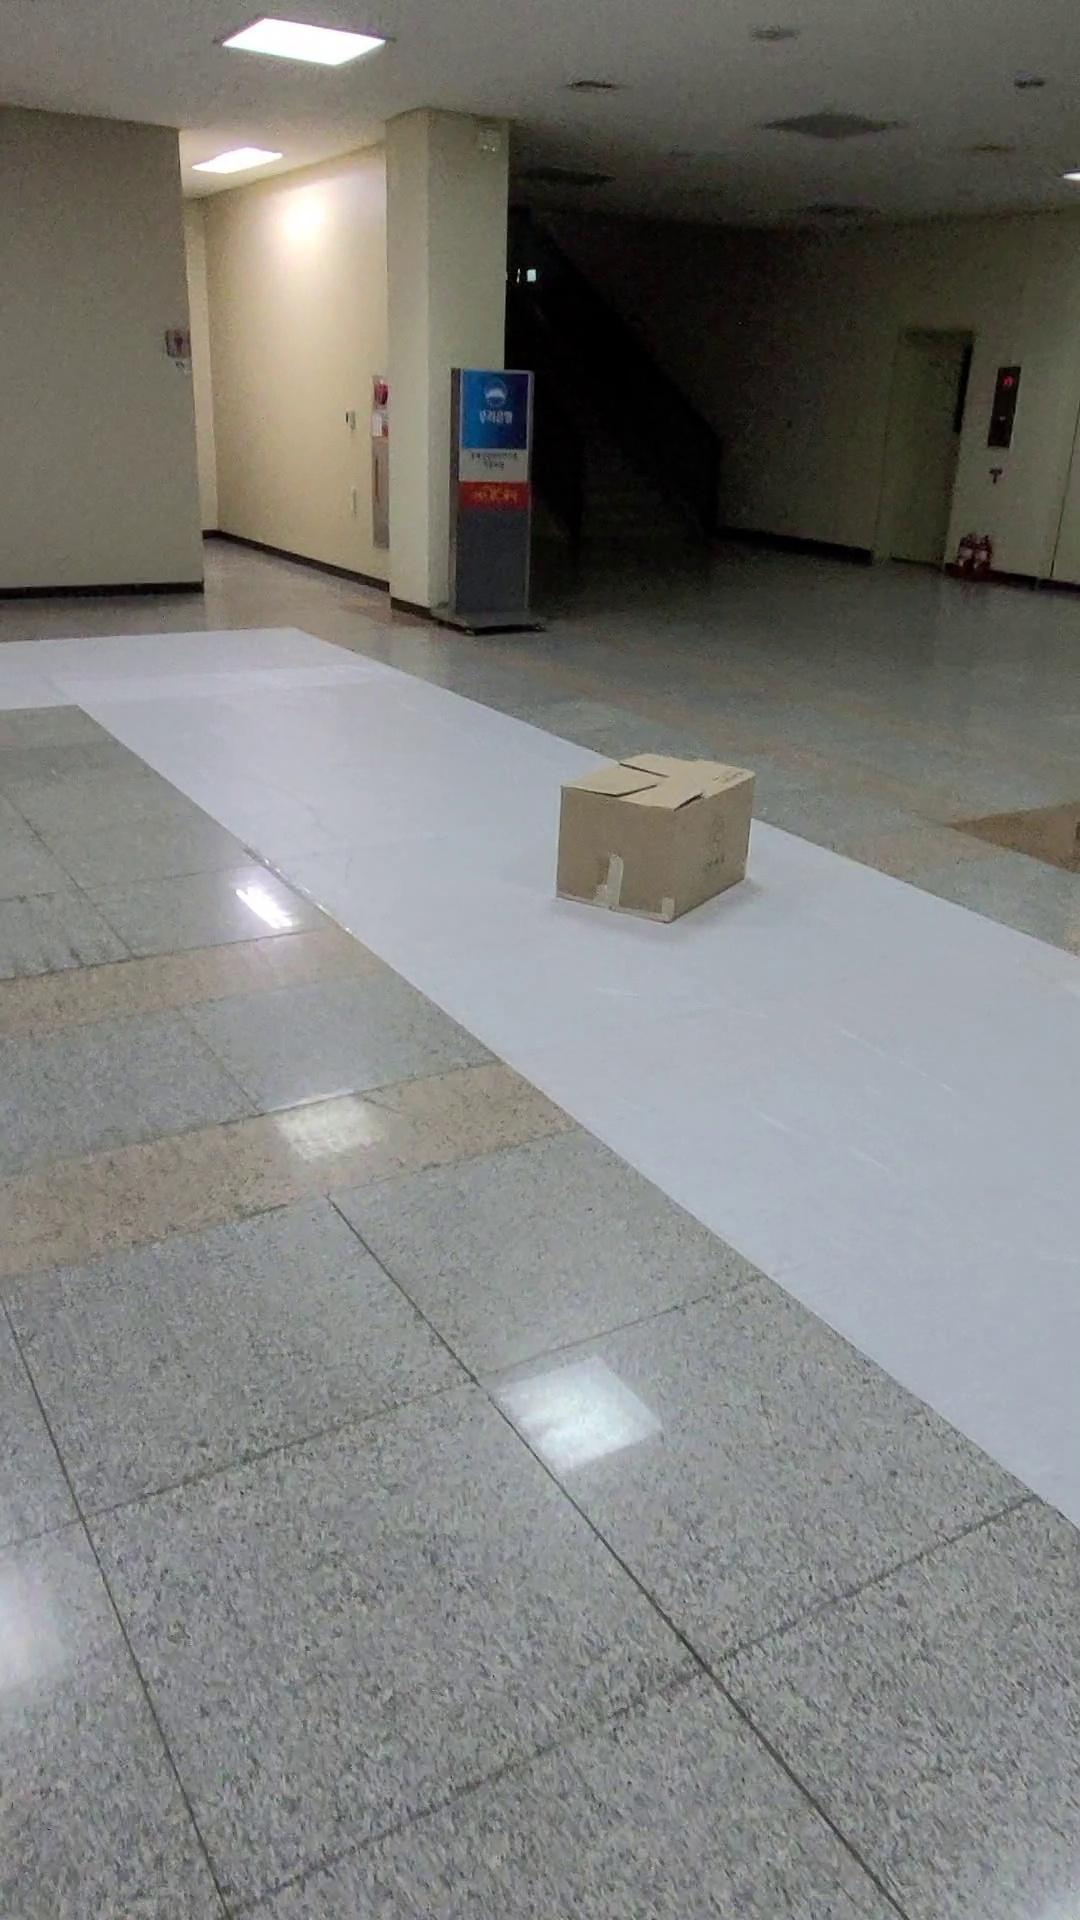Box: (538, 709, 794, 967)
